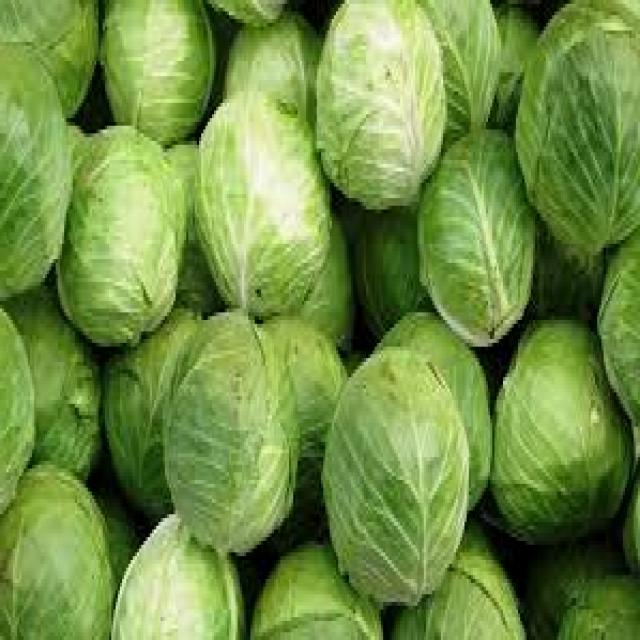beef: (146, 97, 341, 339), (300, 327, 471, 599), (490, 0, 640, 302), (466, 292, 631, 566), (154, 272, 296, 579), (280, 0, 450, 213), (410, 118, 542, 372), (28, 118, 162, 356), (0, 453, 127, 639), (101, 480, 246, 640), (0, 0, 112, 202), (238, 513, 396, 640), (78, 8, 216, 151), (407, 504, 542, 639), (0, 50, 73, 297), (0, 332, 79, 472)
